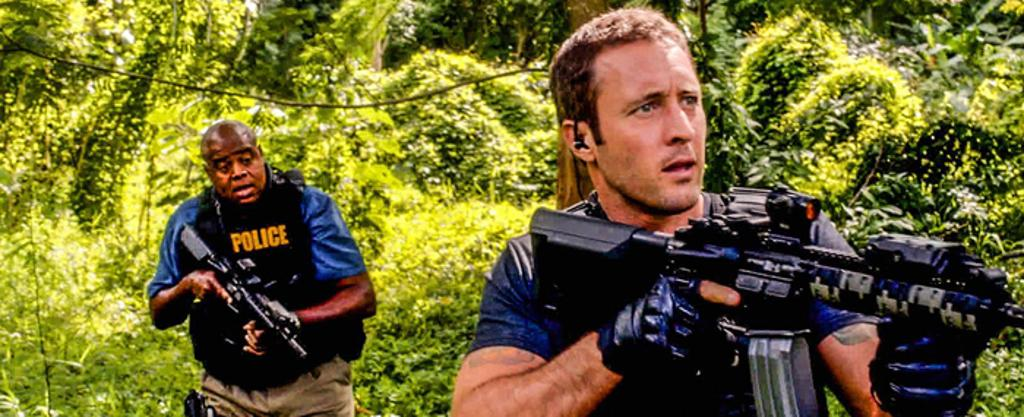face: (598, 47, 708, 211), (200, 128, 266, 205)
